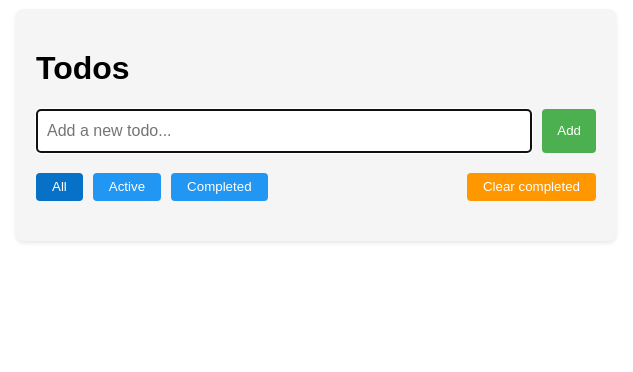
Test case: Todos App › should filter todo items correctly
Step 1. Type "Active task" into the field with placeholder "Add a new todo..." → (284, 131), box [36,109,532,153]
Step 2. Click the button "Add" → click(569, 131), box [542,109,596,153]
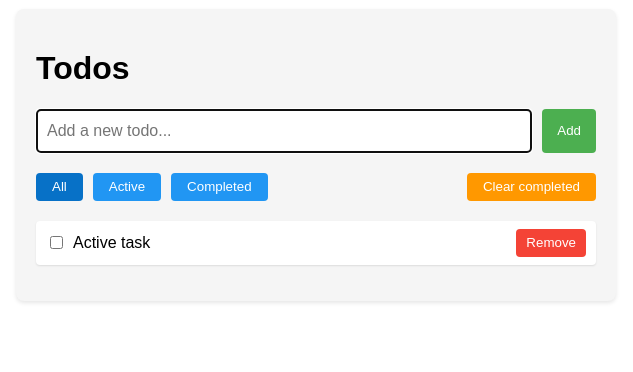
Step 3. Type "Completed task" into the field with placeholder "Add a new todo..." → (284, 131), box [36,109,532,153]
Step 4. Click the button "Add" → click(569, 131), box [542,109,596,153]
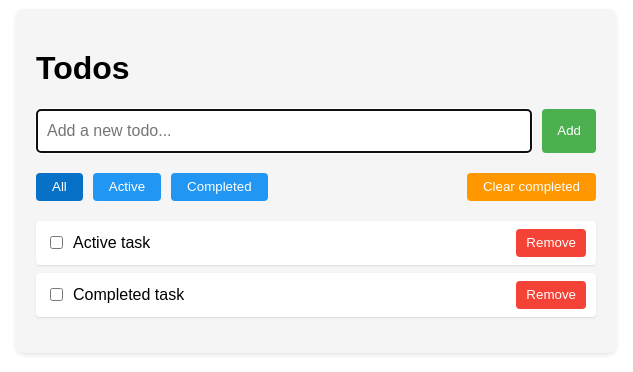
Step 5. Click the checkbox labelled "Completed task" → click(56, 295), box [50,288,63,301]
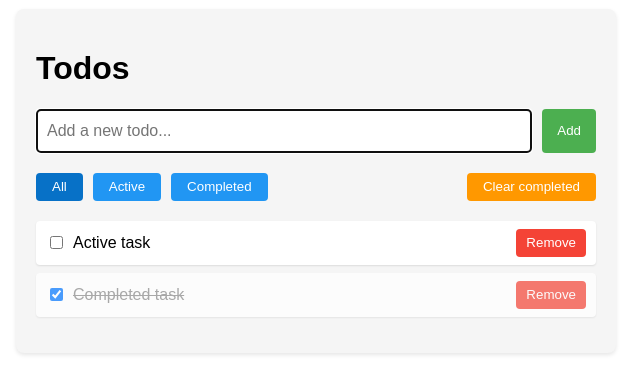
Step 6. Click the button "Active" → click(127, 187), box [93,173,161,201]
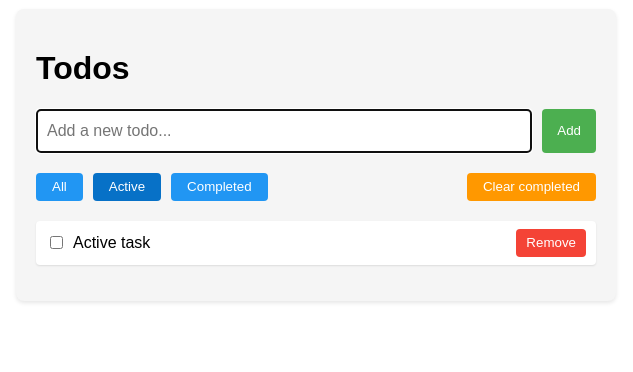
Now the text "Active task" is shown, box [73,234,150,251]
Now the text "Completed task" is gone
Step 7. Click the button "Completed" → click(219, 187), box [171,173,268,201]
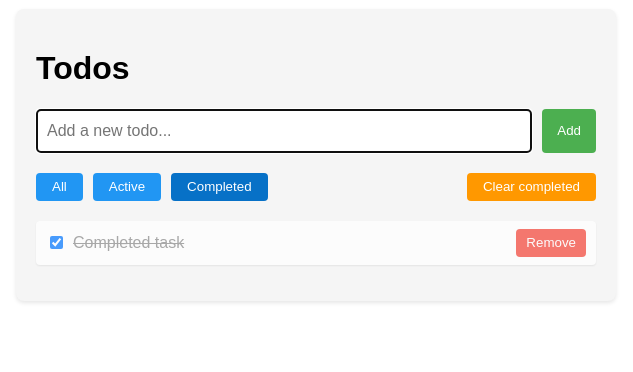
Now the text "Active task" is gone
Now the text "Completed task" is shown, box [73,234,184,251]
Step 8. Click the button "All" → click(59, 187), box [36,173,83,201]
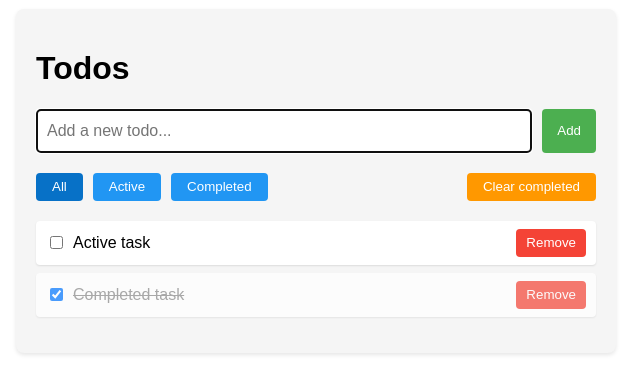
Now the text "Completed task" is shown, box [73,286,184,303]
Now the text "Active task" is shown, box [73,234,150,251]
